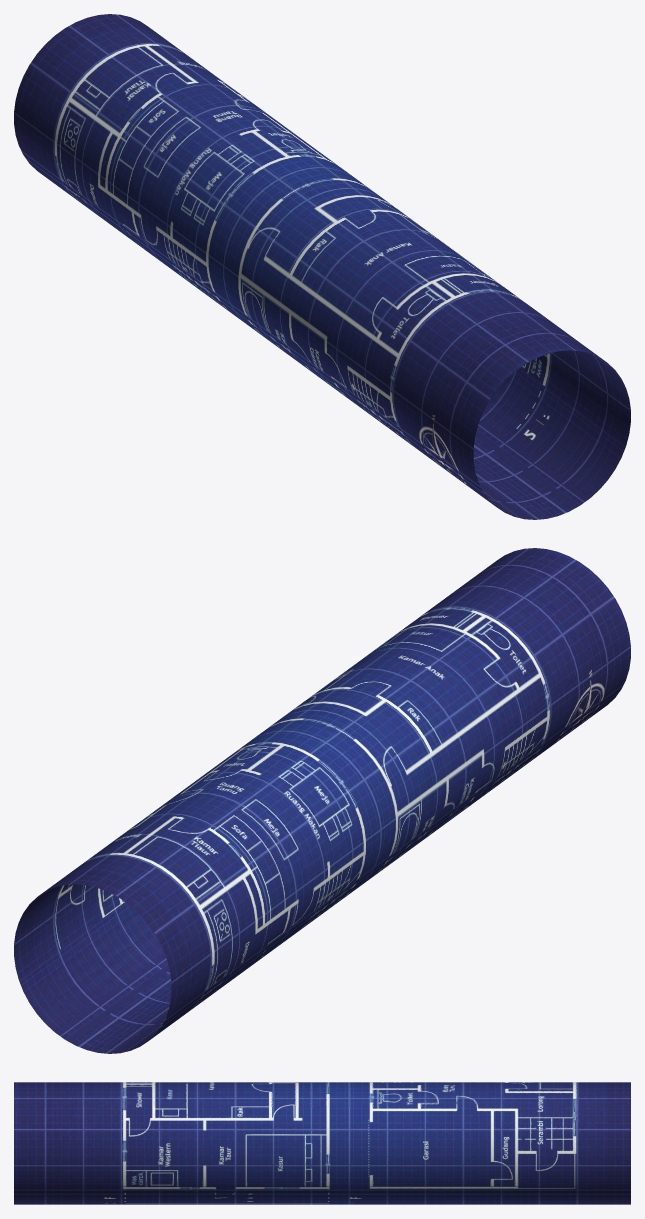
The model's file is rollpep.fbx.
3 views of the same model, one above another, from view 1: azimuth 30°, elevation 25°; view 2: azimuth 150°, elevation 25°; view 3: azimuth 270°, elevation 25° (orthographic). The views are drawn at different scales.
Parts seen in each view (by area): view 1: Plane; view 2: Plane; view 3: Plane.
Boxes of the visible parts, left/top/right/bottom form: Plane: left=14, top=14, right=630, bottom=519; Plane: left=14, top=548, right=630, bottom=1053; Plane: left=14, top=1082, right=630, bottom=1204.
Bounding box in the file's own units: 69.24 × 69.24 × 350.
